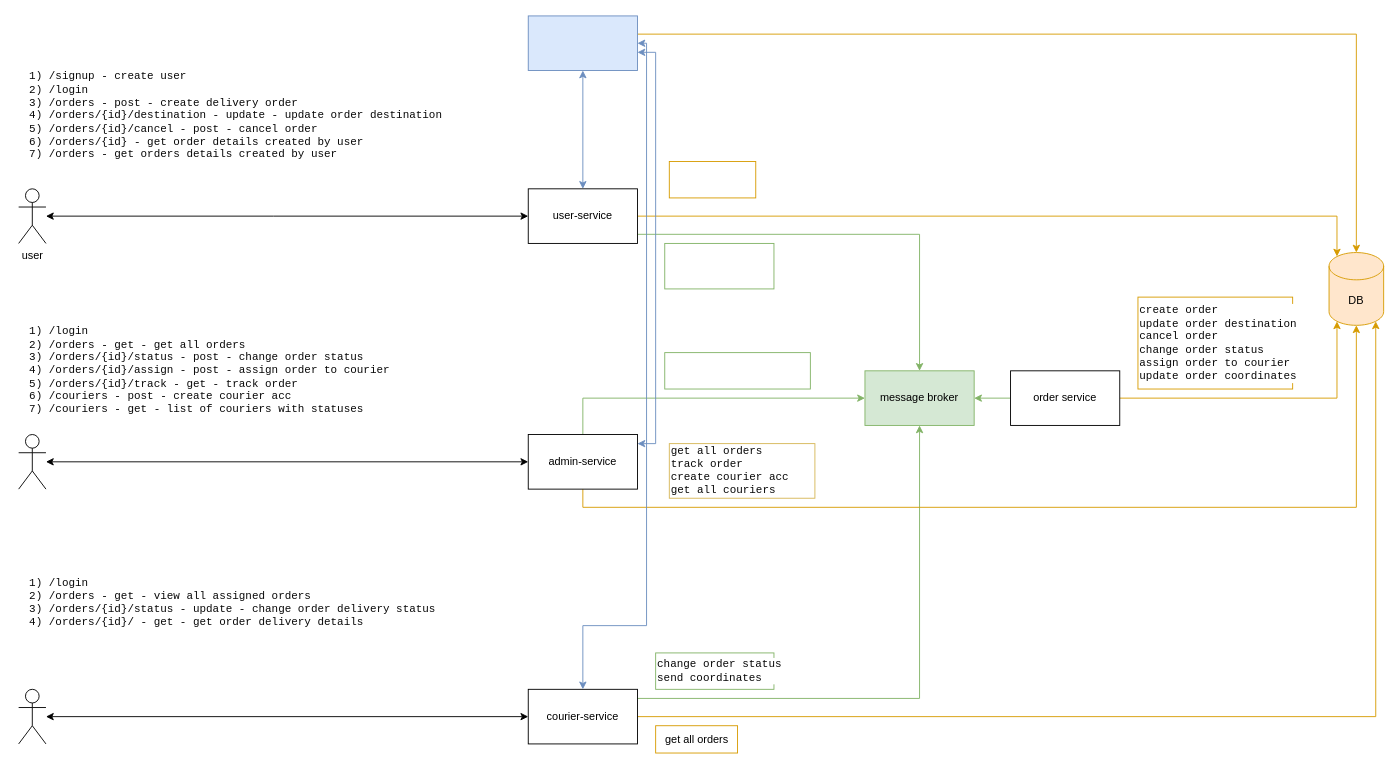
This 1400x779 diagram has some shape labels left out. The centre of each missing label's shape, as x and y in pixels:
"admin" belongs at pixel 32 461.
"auth server" belongs at pixel 582 43.
"change order status assign order to courier" belongs at pixel 737 370.
"courier" belongs at pixel 32 716.
"create order update order dest cancel order" belongs at pixel 719 266.
"get order get all orders" belongs at pixel 712 179.
